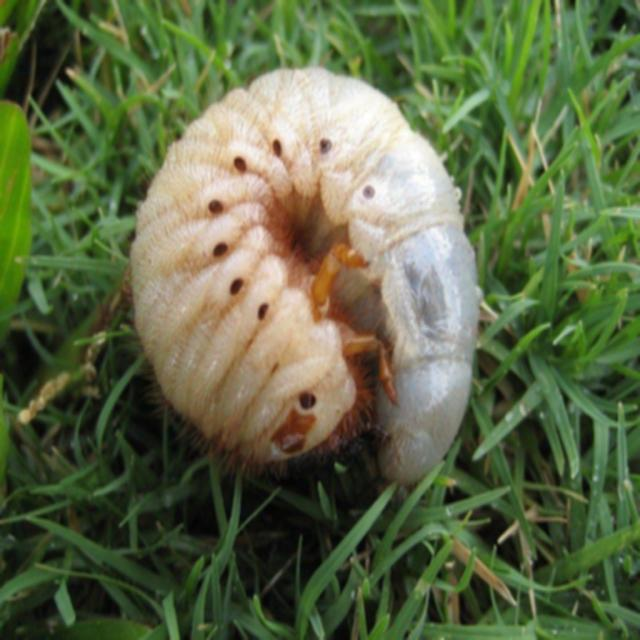grub: (129, 63, 499, 486)
